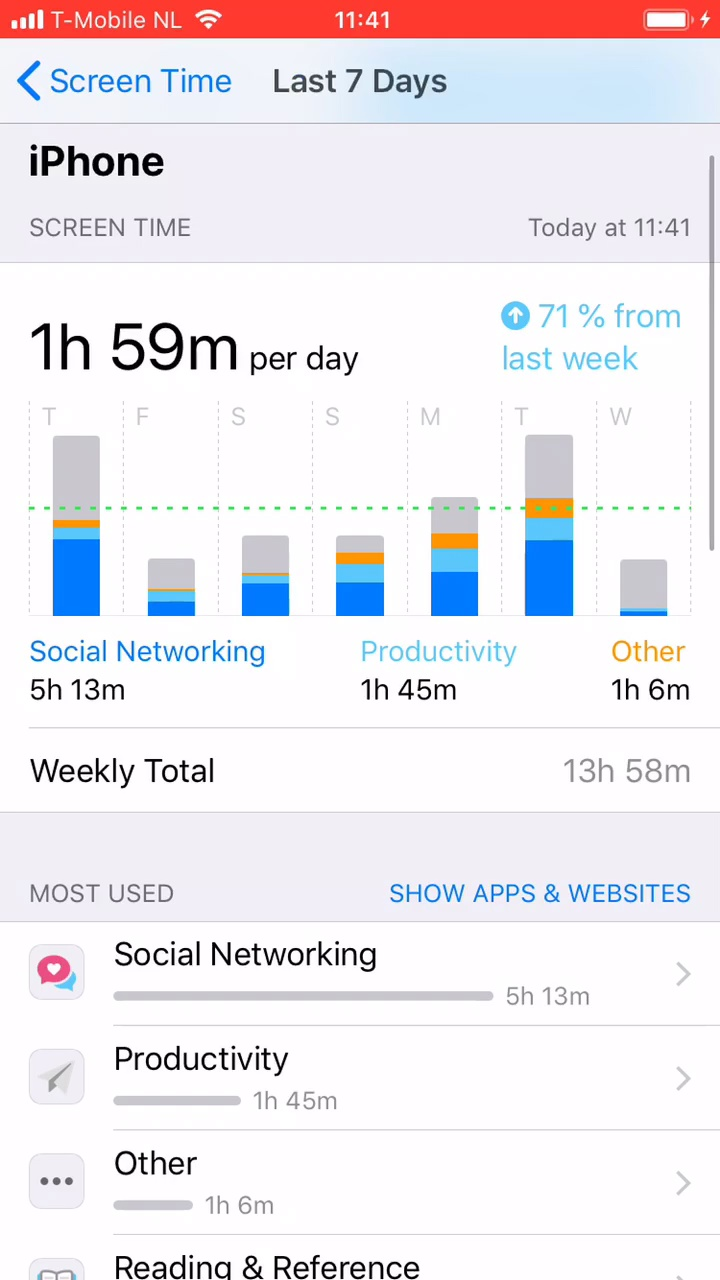use_over: (23, 639, 703, 794)
week: (254, 60, 475, 105)
